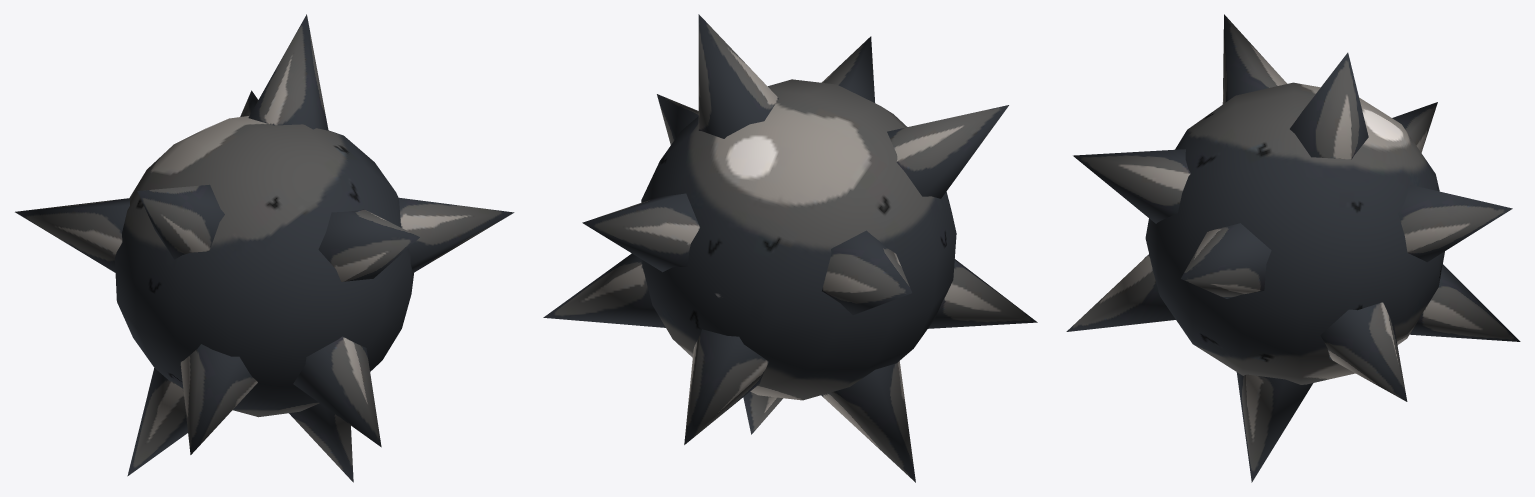
Rendered from eff_mesh_j_xingming_01.glb.
3 renders of one model, left to right at view 1: azimuth 30°, elevation 25°; view 2: azimuth 150°, elevation 25°; view 3: azimuth 270°, elevation 25°, orthographic. The views are drawn at different scales.
Parts seen in each view (by area): view 1: eff_mesh_j_xingming_01; view 2: eff_mesh_j_xingming_01; view 3: eff_mesh_j_xingming_01.
Part boxes in pixels (left/top/right/bottom): eff_mesh_j_xingming_01: left=15, top=14, right=514, bottom=482; eff_mesh_j_xingming_01: left=543, top=14, right=1037, bottom=482; eff_mesh_j_xingming_01: left=1066, top=14, right=1520, bottom=482.
Bounding box in the file's own units: 0.0156 × 0.0175 × 0.0167.
Materials: 1 (1 with a texture image).
